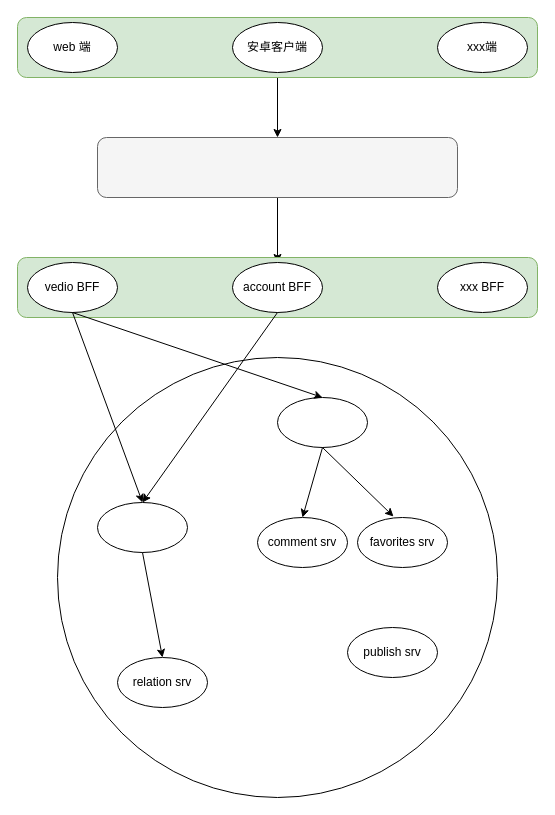
Some shapes in this 555 by 815 pixel diagram are drawn without their labels. Each missing label, with the centre of its shape:
"API gateway" goes at point 277,167.
"user srv" goes at point 142,527.
"vedio srv" goes at point 322,422.
